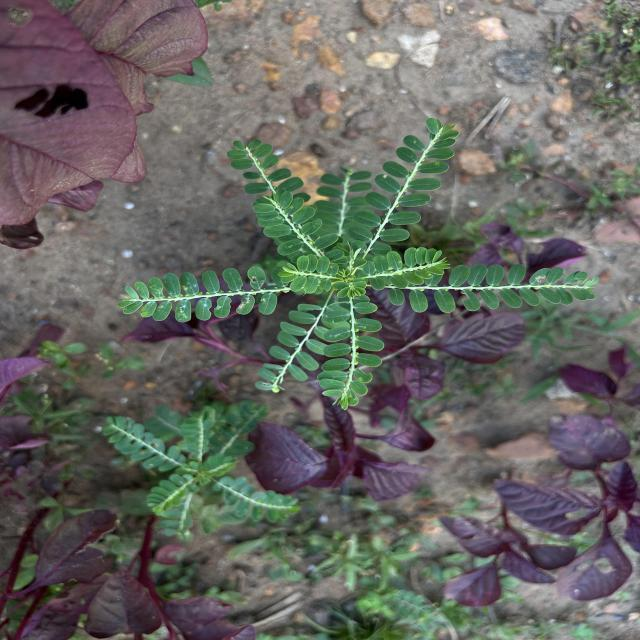Phyllanthus niruri: (348, 117, 463, 257), (386, 262, 602, 316), (115, 264, 289, 324), (312, 290, 384, 411), (254, 299, 330, 396), (253, 188, 347, 261), (358, 246, 452, 294), (276, 255, 340, 298)
